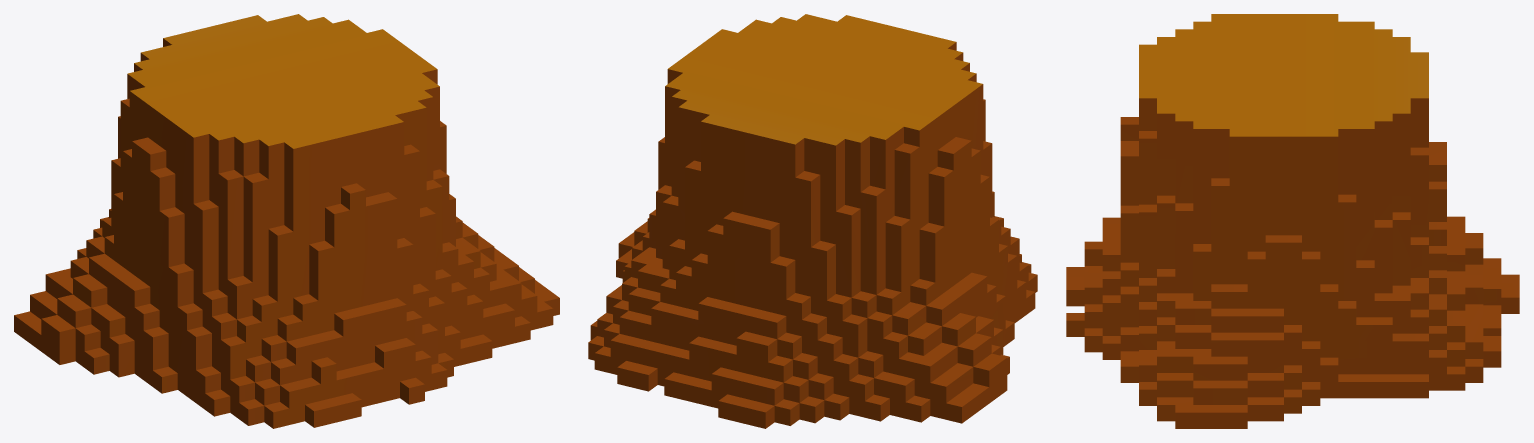
Rendered from stump1.glb.
3 renders of one model, left to right at view 1: azimuth 30°, elevation 25°; view 2: azimuth 150°, elevation 25°; view 3: azimuth 270°, elevation 25°, orthographic.
Parts seen in each view (by area): view 1: geometry_0; view 2: geometry_0; view 3: geometry_0.
Boxes of the visible parts, <box> form: geometry_0: <box>14,14,559,428</box>; geometry_0: <box>588,14,1037,428</box>; geometry_0: <box>1066,14,1519,428</box>.
Size of the model in its own units: 2.53 by 1.4 by 2.34.
1 material, 1 textured.
